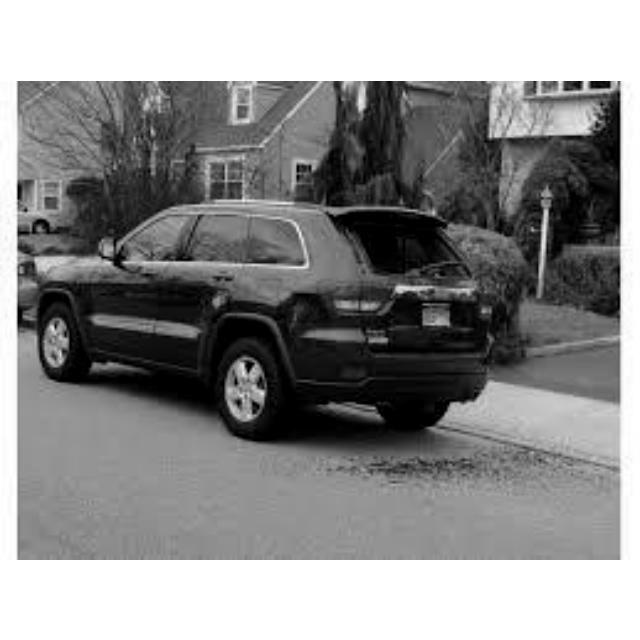Rear-windscreen-Damage: (339, 207, 472, 286)
